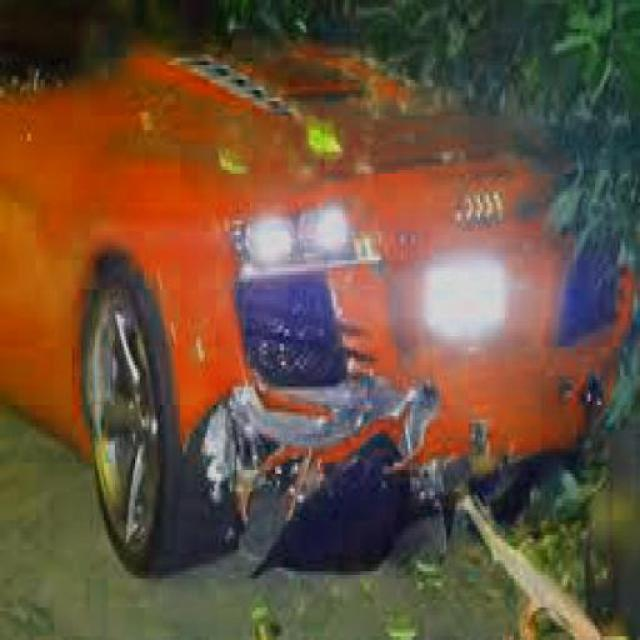Car-Damage: (183, 372, 524, 572)
